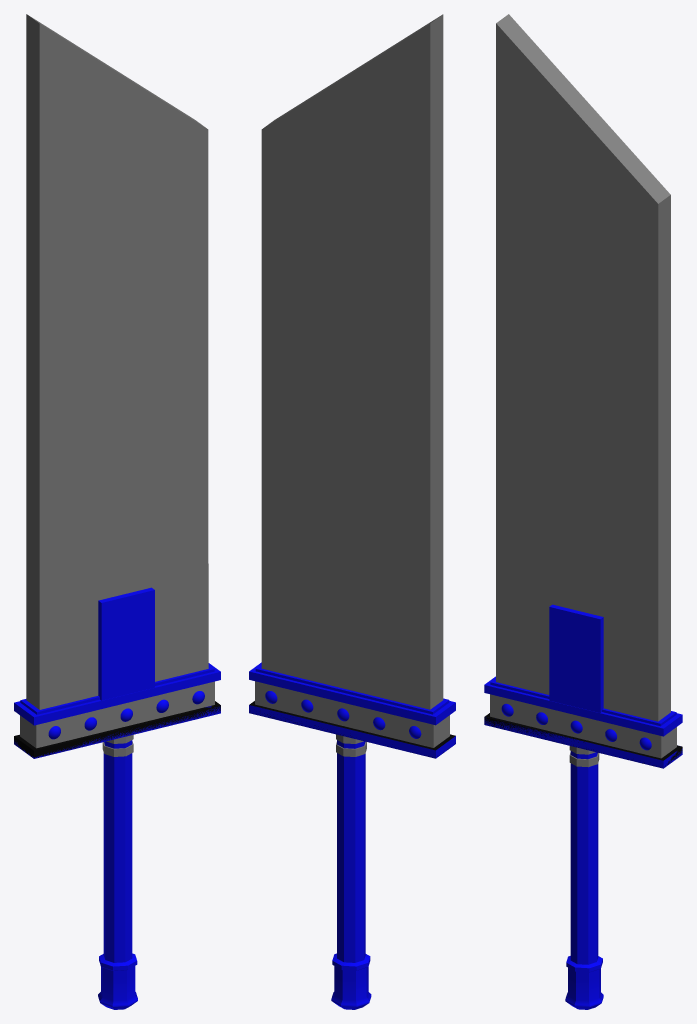
The model's file is BusterOBJ.obj.
3 renders of one model, left to right at view 1: azimuth 30°, elevation 25°; view 2: azimuth 150°, elevation 25°; view 3: azimuth 330°, elevation 25°, orthographic. The views are drawn at different scales.
Parts seen in each view (by area): view 1: polySurface1 pCube6, pCube6 polySurface2, pCylinder2, pCube7, pCube2, pCube3, pCube5, pCube1, pCube4, pSphere1 pSphere2 pSphere3 pSphere4 pSphere5; view 2: polySurface1 pCube6, pCube6 polySurface2, pCylinder2, pCube2, pCube3, pCube1, pCube4, pSphere6 pSphere7 pSphere8 pSphere9 pSphere10, pCube5; view 3: polySurface1 pCube6, pCube6 polySurface2, pCylinder2, pCube7, pCube2, pCube3, pCube1, pCube6 polySurface3, pCube5, pCube4, pSphere1 pSphere2 pSphere3 pSphere4 pSphere5.
Part boxes in pixels (x1,y1,x2,y2): polySurface1 pCube6: (26,14,161,709); pCube6 polySurface2: (161,100,208,679); pCylinder2: (98,740,137,1009); pCube7: (98,587,154,700); pCube2: (20,681,214,748); pCube3: (14,663,220,725); pCube5: (14,701,220,758); pCube1: (14,706,220,758); pCube4: (20,665,214,714); pSphere1 pSphere2 pSphere3 pSphere4 pSphere5: (48,691,204,739); polySurface1 pCube6: (308,14,443,709); pCube6 polySurface2: (261,100,308,679); pCylinder2: (331,740,371,1009); pCube2: (255,681,449,747); pCube3: (249,662,455,725); pCube1: (249,705,455,758); pCube4: (255,664,449,714); pSphere6 pSphere7 pSphere8 pSphere9 pSphere10: (265,691,421,738); pCube5: (249,701,455,758); polySurface1 pCube6: (496,14,625,710); pCube6 polySurface2: (613,154,670,721); pCylinder2: (565,751,603,1009); pCube7: (549,604,603,712); pCube2: (490,694,676,758); pCube3: (484,676,682,736); pCube1: (484,717,682,768); pCube6 polySurface3: (613,144,670,203); pCube5: (484,713,682,767); pCube4: (490,678,676,726); pSphere1 pSphere2 pSphere3 pSphere4 pSphere5: (501,703,651,750).
Size of the model in its own units: 6.24 by 32.22 by 1.2.
